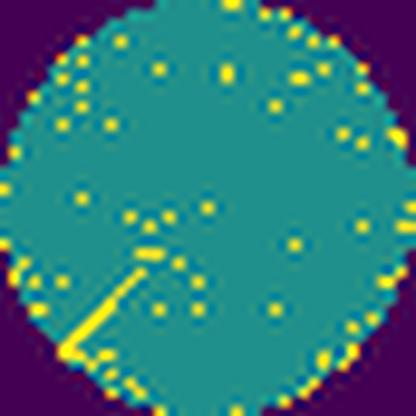Scratch: (57, 260, 150, 362)
